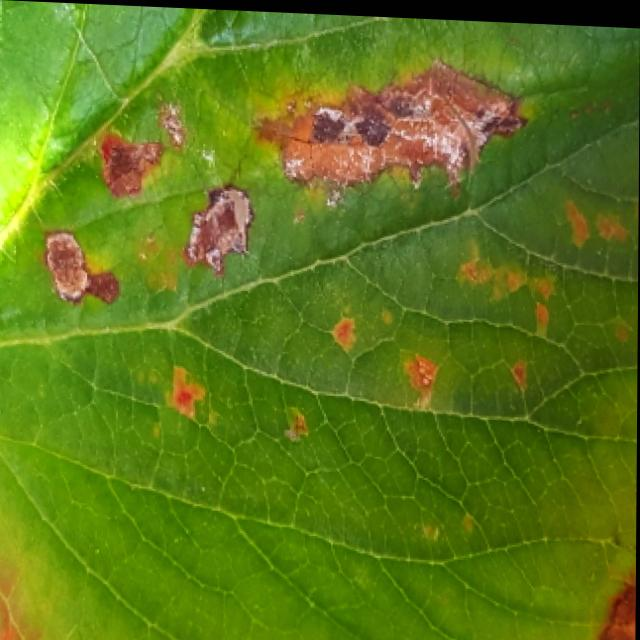Angular Leafspot: (12, 45, 639, 456)
